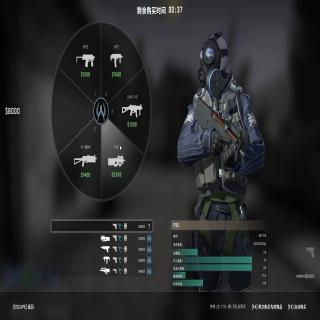CT-Head: (198, 31, 228, 94)
